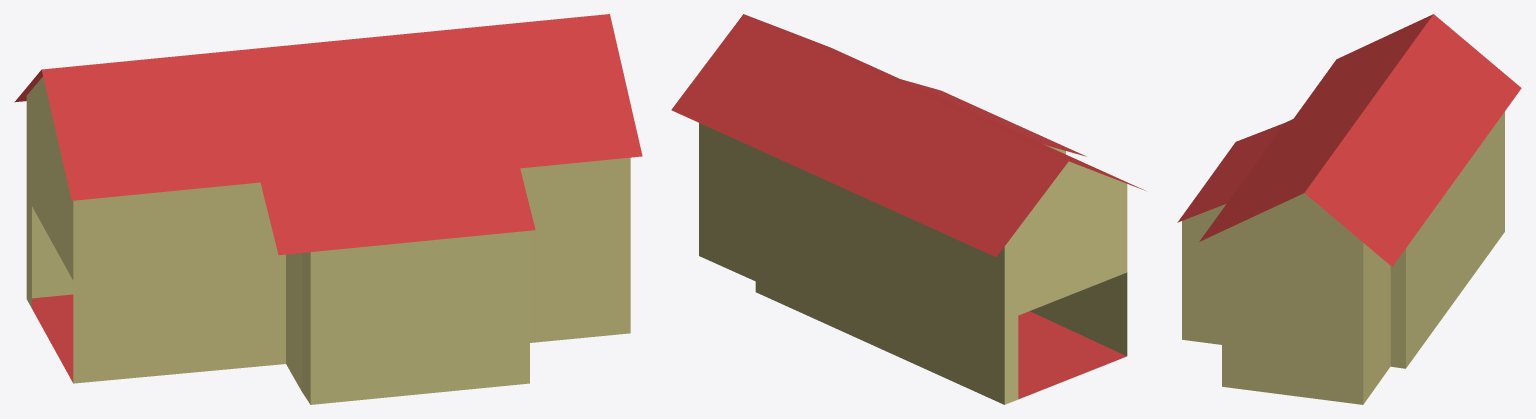
The picture shows the model from 3 angles, left to right: view 1: azimuth 30°, elevation 25°; view 2: azimuth 150°, elevation 25°; view 3: azimuth 270°, elevation 25°; orthographic projection. The views are drawn at different scales.
Bounding box in the file's own units: 29.59 × 21.22 × 14.02.
